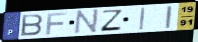B: (20, 13, 45, 37)
F: (45, 11, 70, 35)
I: (164, 5, 174, 30), (138, 6, 147, 31)
N: (73, 8, 101, 35)
Z: (99, 9, 124, 33)
